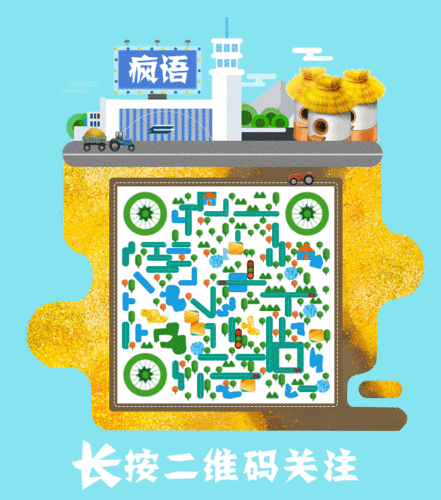QRCode: (119, 184, 334, 402)
